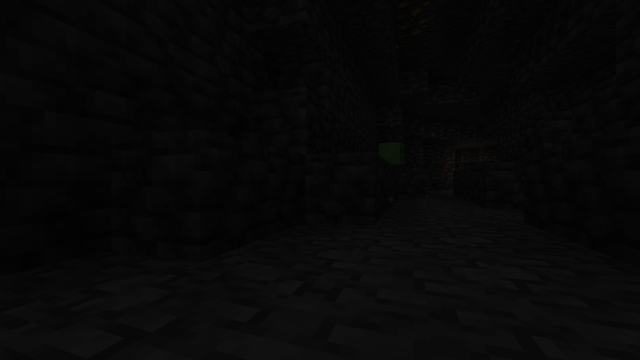slimes: (379, 141, 402, 164)
